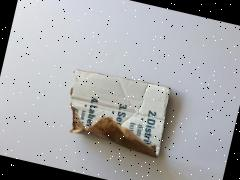cardboard: (40, 47, 202, 179)
